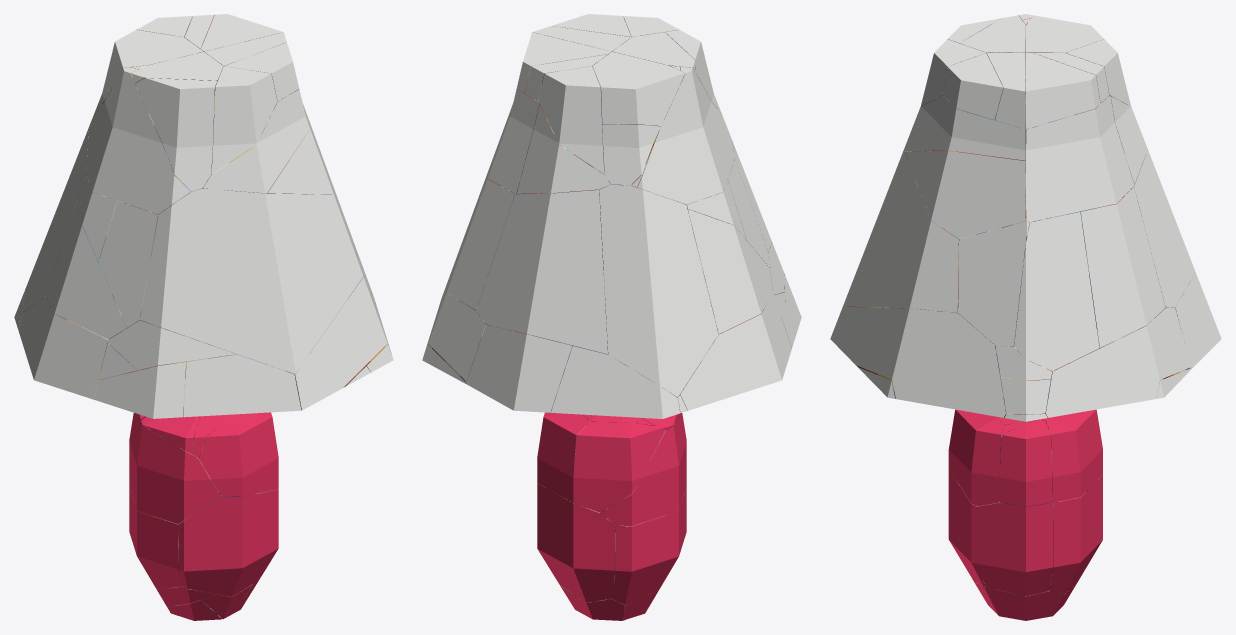
The model's file is Lamp.fbx.
The picture shows the model from 3 angles, left to right: view 1: azimuth 30°, elevation 25°; view 2: azimuth 150°, elevation 25°; view 3: azimuth 270°, elevation 25°; orthographic projection.
Parts seen in each view (by area): view 1: Lamp_cell.039, Lamp_cell.008_cell, Lamp_cell.001, Lamp_cell.031_cell.001, Lamp_cell.016, Lamp_cell.028_cell.001_cell.001, Lamp_cell.025, Lamp_cell.030_cell, Lamp_cell.002_cell, Lamp_cell.033, Lamp_cell.009, Lamp_cell.002_cell.001_cell (+20 smaller); view 2: Lamp_cell, Lamp_cell.027, Lamp_cell.008_cell, Lamp_cell.011, Lamp_cell.030_cell, Lamp_cell.010_cell, Lamp_cell.002_cell, Lamp_cell.010_cell.001, Lamp_cell.023, Lamp_cell.042_cell, Lamp_cell.037, Lamp_cell.004 (+20 smaller); view 3: Lamp_cell.016, Lamp_cell.039, Lamp_cell.035_cell, Lamp_cell.038_cell, Lamp_cell.035_cell.001, Lamp_cell.032, Lamp_cell.021_cell, Lamp_cell.018_cell, Lamp_cell.014, Lamp_cell.021_cell.001, Lamp_cell.027, Lamp_cell.033 (+17 smaller).
Boxes of the visible parts, x1,y1,x2,y2 form: Lamp_cell.039: (140, 188, 363, 373); Lamp_cell.008_cell: (86, 67, 191, 214); Lamp_cell.001: (178, 489, 278, 596); Lamp_cell.031_cell.001: (135, 78, 217, 191); Lamp_cell.016: (286, 253, 391, 410); Lamp_cell.028_cell.001_cell.001: (183, 354, 301, 417); Lamp_cell.025: (129, 423, 221, 523); Lamp_cell.030_cell: (18, 296, 108, 399); Lamp_cell.002_cell: (45, 177, 126, 339); Lamp_cell.033: (199, 412, 278, 496); Lamp_cell.009: (211, 66, 277, 173); Lamp_cell.002_cell.001_cell: (98, 201, 158, 327); Lamp_cell: (599, 184, 718, 397); Lamp_cell.027: (476, 189, 607, 354); Lamp_cell.008_cell: (631, 66, 734, 204); Lamp_cell.011: (537, 483, 615, 602); Lamp_cell.030_cell: (680, 292, 791, 410); Lamp_cell.010_cell: (466, 325, 572, 412); Lamp_cell.002_cell: (687, 209, 772, 333); Lamp_cell.010_cell.001: (551, 346, 680, 418); Lamp_cell.023: (573, 422, 665, 512); Lamp_cell.042_cell: (592, 52, 685, 126); Lamp_cell.037: (612, 490, 685, 604); Lamp_cell.004: (538, 66, 604, 173); Lamp_cell.016: (830, 306, 1005, 417); Lamp_cell.039: (843, 150, 959, 313); Lamp_cell.035_cell: (1014, 211, 1099, 370); Lamp_cell.038_cell: (1026, 95, 1134, 221); Lamp_cell.035_cell.001: (1080, 186, 1165, 347); Lamp_cell.032: (1046, 307, 1190, 417); Lamp_cell.021_cell: (905, 150, 1025, 238); Lamp_cell.018_cell: (958, 194, 1025, 346); Lamp_cell.014: (978, 502, 1052, 596); Lamp_cell.021_cell.001: (904, 95, 1025, 161); Lamp_cell.027: (1134, 150, 1195, 307); Lamp_cell.033: (948, 409, 1004, 506).
Bounding box in the file's own units: 243 × 378 × 243.
